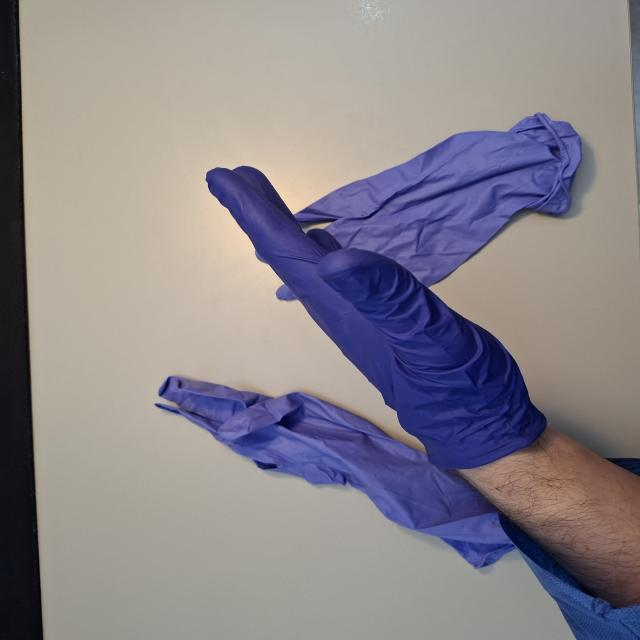glove_on: (203, 164, 539, 476)
